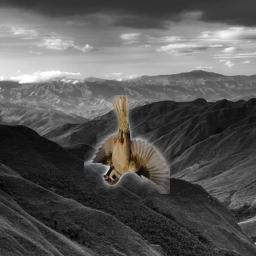Sparrow: (84, 95, 170, 194)
